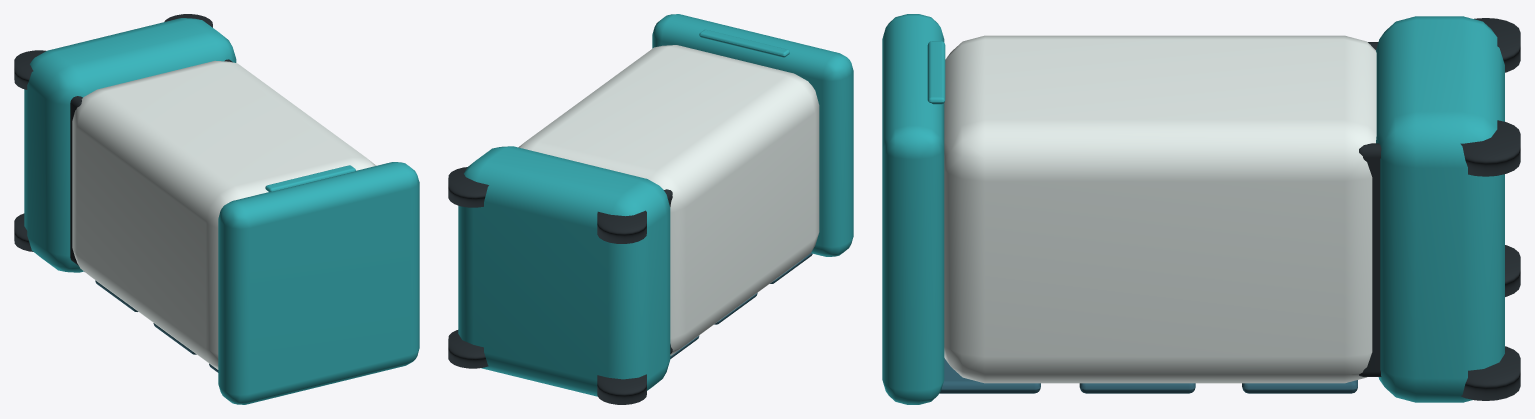
The model's file is hero_clinic_delivery.glb.
3 views of the same model, side by side, from view 1: azimuth 30°, elevation 25°; view 2: azimuth 150°, elevation 25°; view 3: azimuth 270°, elevation 25° (orthographic). The views are drawn at different scales.
Visible parts, largest first — view 1: Clinic sealed service body, Clinic upper cap, Clinic mobile base, Clinic status LED, Clinic caster wheel.001, Clinic side protection, Clinic caster wheel; view 2: Clinic sealed service body, Clinic mobile base, Clinic upper cap, Clinic caster wheel.001, Clinic caster wheel, Clinic caster wheel.003, Clinic caster wheel.002, Clinic status LED; view 3: Clinic sealed service body, Clinic mobile base, Clinic upper cap, Clinic side protection.001, Clinic caster wheel.003, Clinic caster wheel.002, Clinic tray face.002, Clinic tray face, Clinic tray face.001, Clinic caster wheel.001, Clinic status LED, Clinic caster wheel.
Boxes of the visible parts, x1,y1,x2,y2 form: Clinic sealed service body: [72, 60, 376, 369]; Clinic upper cap: [218, 162, 419, 404]; Clinic mobile base: [24, 18, 236, 272]; Clinic status LED: [265, 165, 355, 191]; Clinic caster wheel.001: [14, 50, 45, 89]; Clinic side protection: [70, 96, 82, 265]; Clinic caster wheel: [14, 213, 33, 251]; Clinic sealed service body: [518, 45, 819, 355]; Clinic mobile base: [458, 146, 670, 396]; Clinic upper cap: [652, 14, 853, 256]; Clinic caster wheel.001: [597, 210, 646, 243]; Clinic caster wheel: [597, 374, 646, 404]; Clinic caster wheel.003: [448, 167, 488, 207]; Clinic caster wheel.002: [448, 330, 488, 368]; Clinic status LED: [699, 29, 789, 57]; Clinic sealed service body: [944, 35, 1376, 383]; Clinic mobile base: [1376, 16, 1504, 402]; Clinic upper cap: [882, 14, 944, 404]; Clinic side protection.001: [1359, 143, 1381, 376]; Clinic caster wheel.003: [1460, 120, 1520, 176]; Clinic caster wheel.002: [1461, 346, 1520, 400]; Clinic tray face.002: [939, 358, 1040, 393]; Clinic tray face: [1242, 380, 1357, 393]; Clinic tray face.001: [1079, 383, 1195, 393]; Clinic caster wheel.001: [1474, 18, 1520, 72]; Clinic status LED: [927, 41, 945, 104]; Clinic caster wheel: [1505, 245, 1520, 296].
Size of the model in its own units: 0.8 by 0.836 by 1.65.
